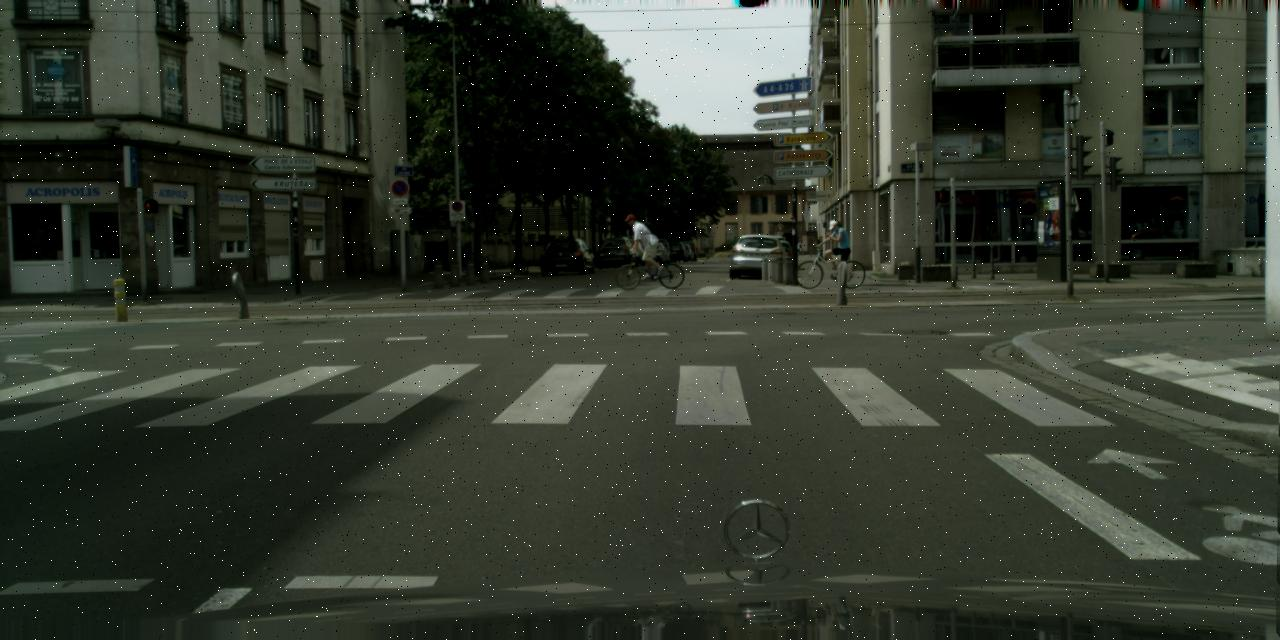ped: (628, 214, 654, 278), (826, 218, 849, 276), (796, 242, 801, 254)
